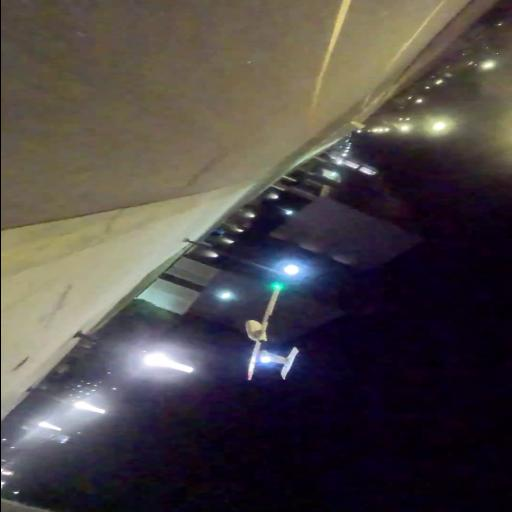uav: (232, 278, 304, 386)
